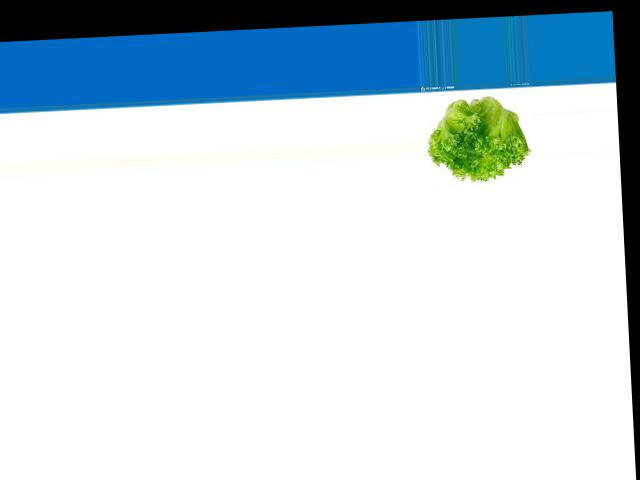lettuce: (425, 88, 528, 187)
